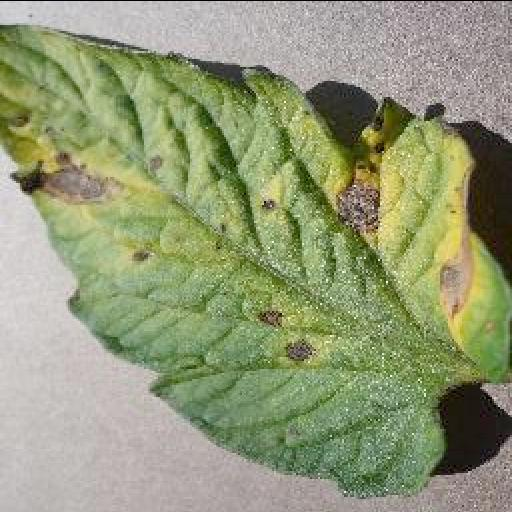disease_tomato: (0, 24, 512, 493)
